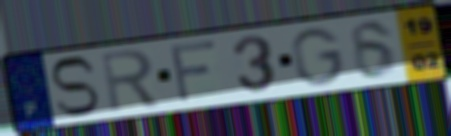3: (230, 34, 277, 96)
6: (347, 20, 400, 81)
F: (167, 37, 220, 106)
G: (289, 26, 348, 88)
R: (98, 47, 163, 115)
S: (47, 54, 102, 119)
